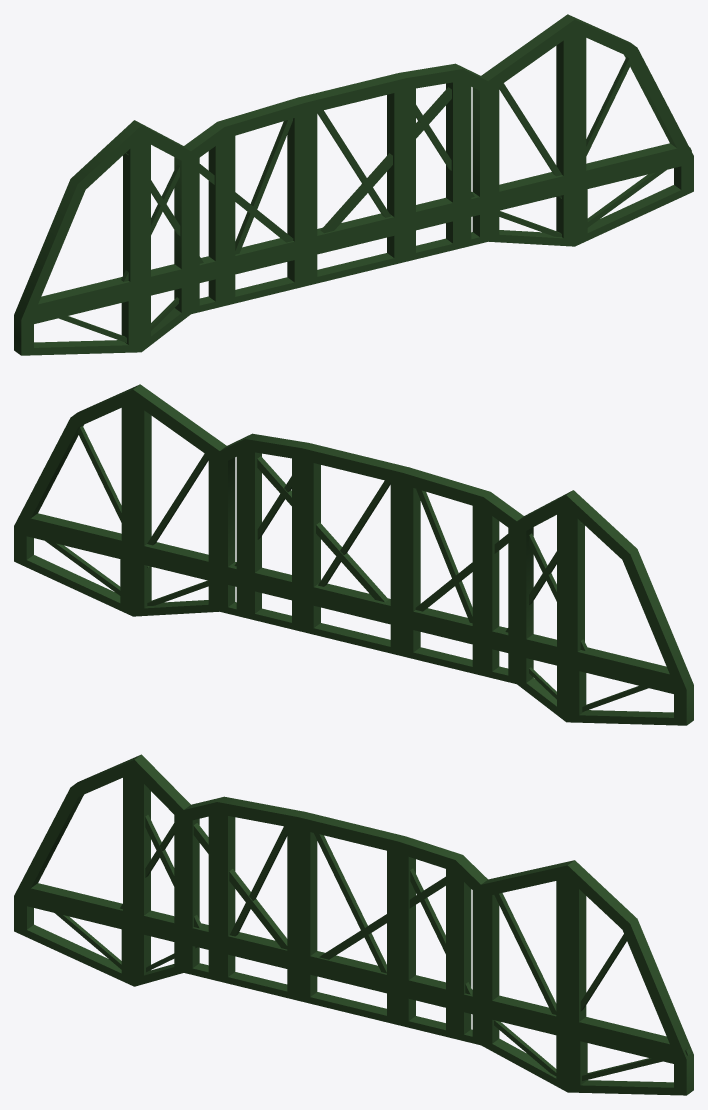
Rendered from MOD_KitPontE.FBX.
3 renders of one model, top to bottom at view 1: azimuth 30°, elevation 25°; view 2: azimuth 150°, elevation 25°; view 3: azimuth 330°, elevation 25°, orthographic.
Parts seen in each view (by area): view 1: Pont champlain, Box009, Box007, Box008, Box014, Box012, Box010, Box016, Box015; view 2: Pont champlain, Box009, Box007, Box008, Box012, Box014, Box010, Box016, Box015; view 3: Pont champlain, Box008, Box010, Box012, Box009, Box007, Box011, Box013, Box017, Box014, Box016, Box018.
Part boxes in pixels (left/top/right/bottom): Pont champlain: left=14, top=14, right=693, bottom=355; Box009: left=320, top=87, right=451, bottom=233; Box007: left=235, top=118, right=292, bottom=254; Box008: left=317, top=110, right=391, bottom=217; Box014: left=558, top=56, right=631, bottom=198; Box012: left=499, top=83, right=561, bottom=176; Box010: left=199, top=164, right=293, bottom=242; Box016: left=587, top=147, right=691, bottom=227; Box015: left=121, top=164, right=179, bottom=281; Pont champlain: left=14, top=384, right=693, bottom=725; Box009: left=257, top=456, right=388, bottom=601; Box007: left=416, top=489, right=472, bottom=623; Box008: left=318, top=480, right=390, bottom=586; Box012: left=147, top=453, right=208, bottom=545; Box014: left=77, top=426, right=149, bottom=567; Box010: left=415, top=534, right=508, bottom=611; Box016: left=45, top=541, right=120, bottom=595; Box015: left=529, top=533, right=587, bottom=650; Pont champlain: left=14, top=754, right=693, bottom=1095; Box008: left=314, top=833, right=386, bottom=973; Box010: left=193, top=823, right=287, bottom=949; Box012: left=494, top=893, right=556, bottom=1014; Box009: left=319, top=876, right=445, bottom=959; Box007: left=230, top=826, right=287, bottom=936; Box011: left=410, top=868, right=472, bottom=994; Box013: left=145, top=815, right=202, bottom=928; Box017: left=494, top=1020, right=556, bottom=1075; Box014: left=580, top=934, right=626, bottom=1011; Box016: left=582, top=1048, right=690, bottom=1080; Box018: left=55, top=913, right=121, bottom=969.
Bounding box in the file's own units: 131 × 42.41 × 2.45.
